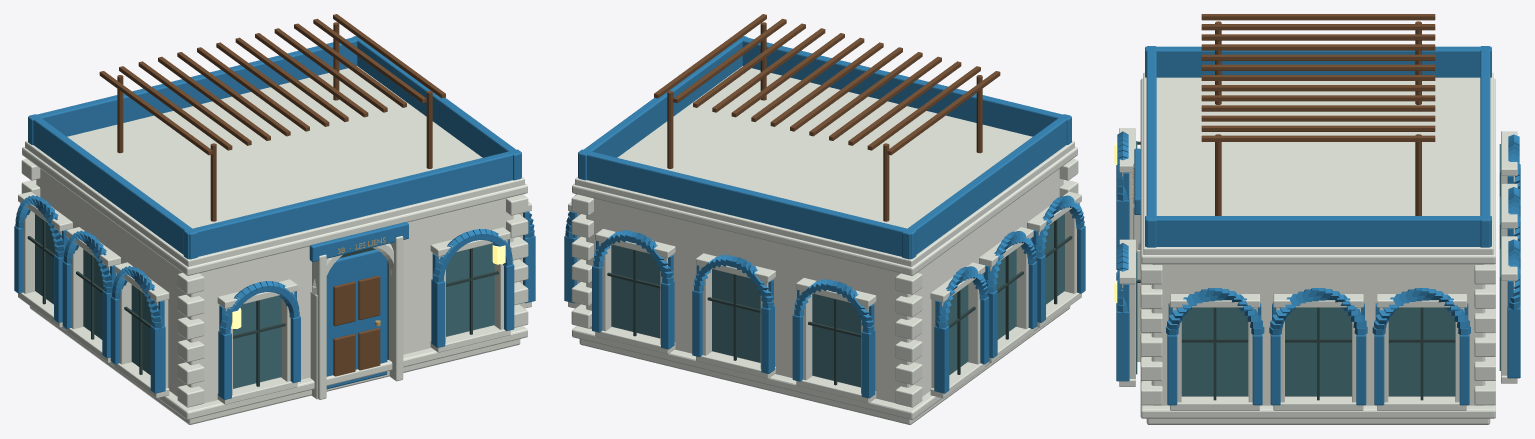
File: tunisie-1.glb
3 views of the same model, side by side, from view 1: azimuth 30°, elevation 25°; view 2: azimuth 150°, elevation 25°; view 3: azimuth 270°, elevation 25° (orthographic). The views are drawn at different scales.
Visible parts, largest first — view 1: tunisie-1_Dressed stone.004, tunisie-1_Regional painted wood.004, tunisie-1_Walnut, tunisie-1_Masonry plaster.004, tunisie-1_Window blue, tunisie-1_Forged midnight; view 2: tunisie-1_Dressed stone.004, tunisie-1_Regional painted wood.004, tunisie-1_Masonry plaster.004, tunisie-1_Window blue, tunisie-1_Walnut, tunisie-1_Forged midnight; view 3: tunisie-1_Dressed stone.004, tunisie-1_Regional painted wood.004, tunisie-1_Walnut, tunisie-1_Window blue, tunisie-1_Masonry plaster.004, tunisie-1_Forged midnight.
Part boxes in pixels (x1,y1,x2,y2): tunisie-1_Dressed stone.004: [18, 66, 531, 424]; tunisie-1_Regional painted wood.004: [14, 36, 535, 399]; tunisie-1_Walnut: [99, 14, 445, 376]; tunisie-1_Masonry plaster.004: [36, 168, 513, 403]; tunisie-1_Window blue: [35, 214, 494, 388]; tunisie-1_Forged midnight: [27, 219, 498, 386]; tunisie-1_Dressed stone.004: [568, 66, 1081, 424]; tunisie-1_Regional painted wood.004: [564, 36, 1085, 398]; tunisie-1_Masonry plaster.004: [586, 168, 1063, 403]; tunisie-1_Window blue: [611, 214, 1064, 387]; tunisie-1_Walnut: [654, 14, 1000, 221]; tunisie-1_Forged midnight: [607, 219, 1072, 385]; tunisie-1_Dressed stone.004: [1119, 72, 1517, 424]; tunisie-1_Regional painted wood.004: [1116, 46, 1520, 405]; tunisie-1_Walnut: [1201, 14, 1435, 215]; tunisie-1_Window blue: [1136, 141, 1500, 396]; tunisie-1_Masonry plaster.004: [1151, 264, 1485, 405]; tunisie-1_Forged midnight: [1137, 141, 1455, 400].
Size of the model in its own units: 14.12 by 8.67 by 12.18.
